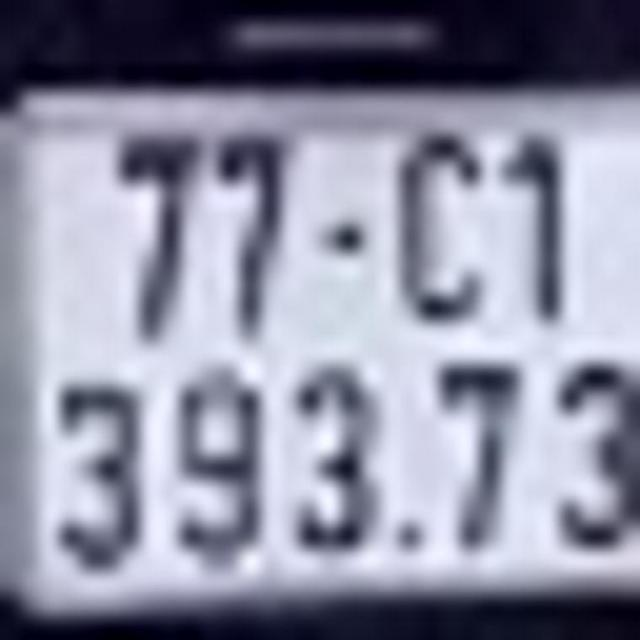1: (502, 122, 572, 321)
3: (49, 376, 155, 579), (288, 362, 378, 553), (555, 345, 637, 553)
7: (120, 130, 196, 349), (438, 357, 517, 552), (217, 126, 283, 340)
9: (174, 362, 269, 577)
C: (390, 129, 487, 322)
